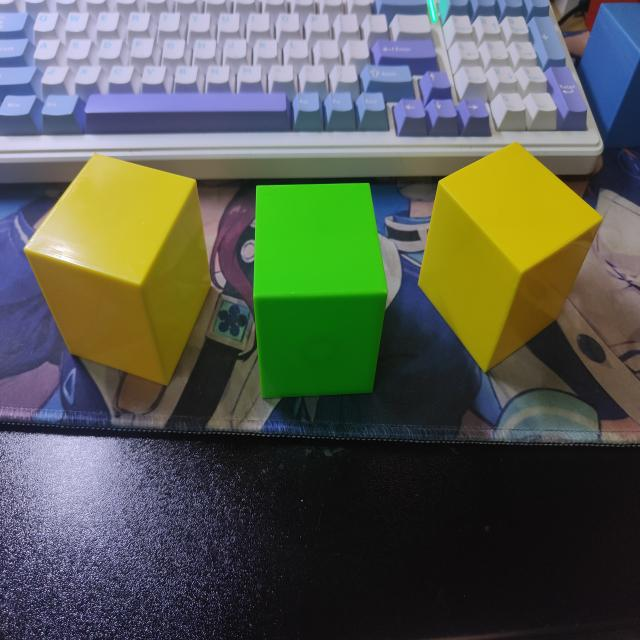blue: (581, 1, 640, 154)
green: (253, 183, 390, 402)
yellow: (23, 155, 211, 394), (418, 144, 603, 375)
